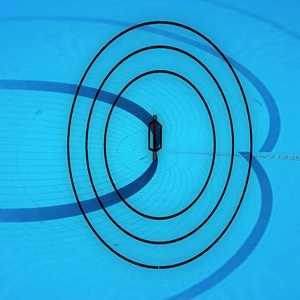circle: (67, 21, 253, 271)
submarine: (147, 114, 162, 158)
